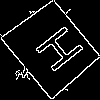H: (26, 23, 86, 81)
